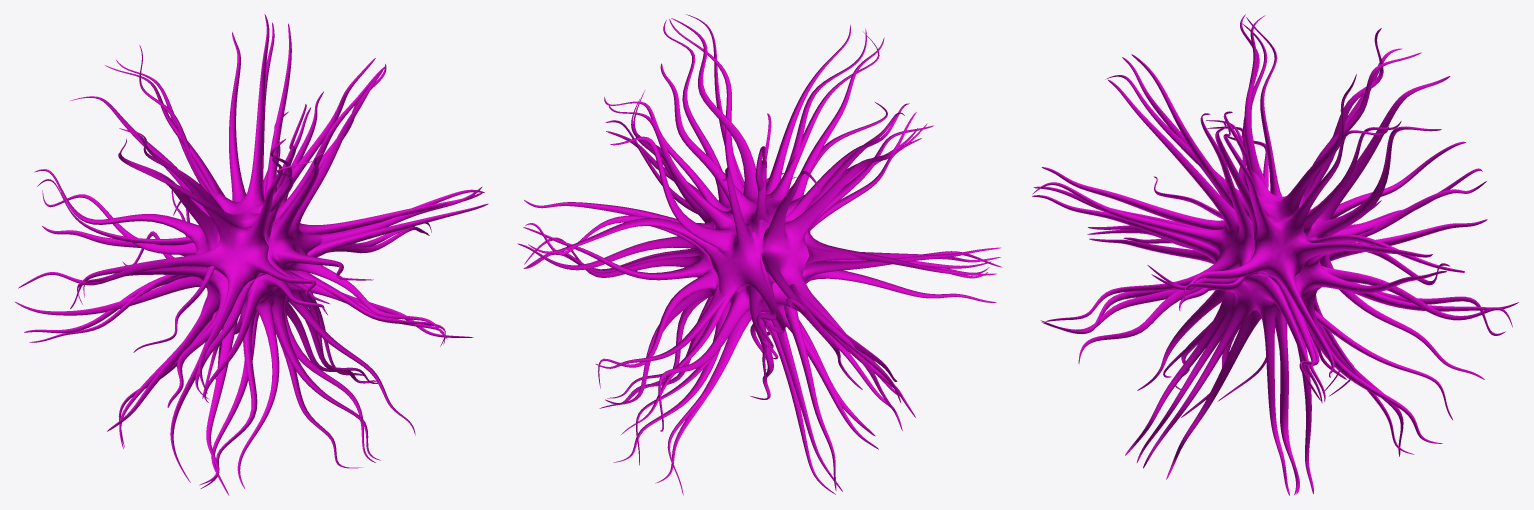
The model's file is tentacles3.fbx.
The picture shows the model from 3 angles, left to right: view 1: azimuth 30°, elevation 25°; view 2: azimuth 150°, elevation 25°; view 3: azimuth 270°, elevation 25°; orthographic projection. The views are drawn at different scales.
Parts seen in each view (by area): view 1: organic_09_quads_:Mesh; view 2: organic_09_quads_:Mesh; view 3: organic_09_quads_:Mesh.
Boxes of the visible parts, x1=… form: organic_09_quads_:Mesh: x1=15, y1=14, x2=488, y2=495; organic_09_quads_:Mesh: x1=517, y1=14, x2=1002, y2=495; organic_09_quads_:Mesh: x1=1032, y1=14, x2=1518, y2=495.
Size of the model in its own units: 32.77 by 29.85 by 32.57.
